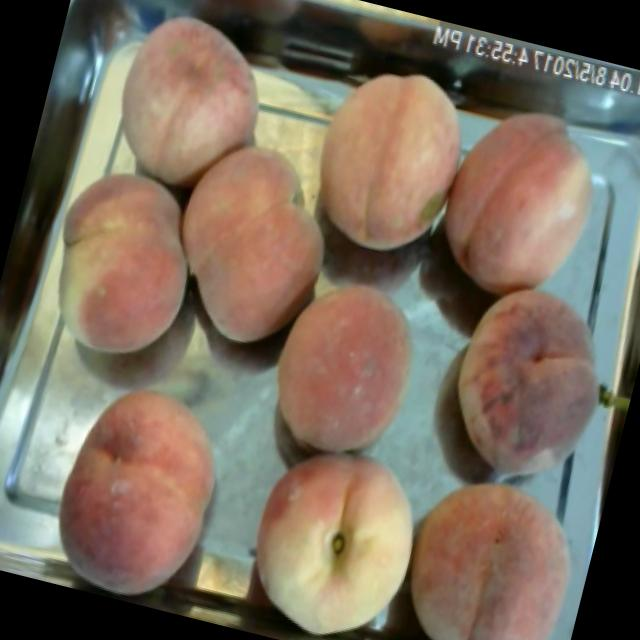Fruit: (410, 254, 640, 520), (136, 118, 361, 372), (29, 360, 248, 618), (9, 141, 230, 385), (237, 253, 451, 492), (217, 414, 438, 640), (423, 85, 624, 328), (374, 441, 608, 640), (280, 44, 480, 276), (85, 0, 289, 212)
